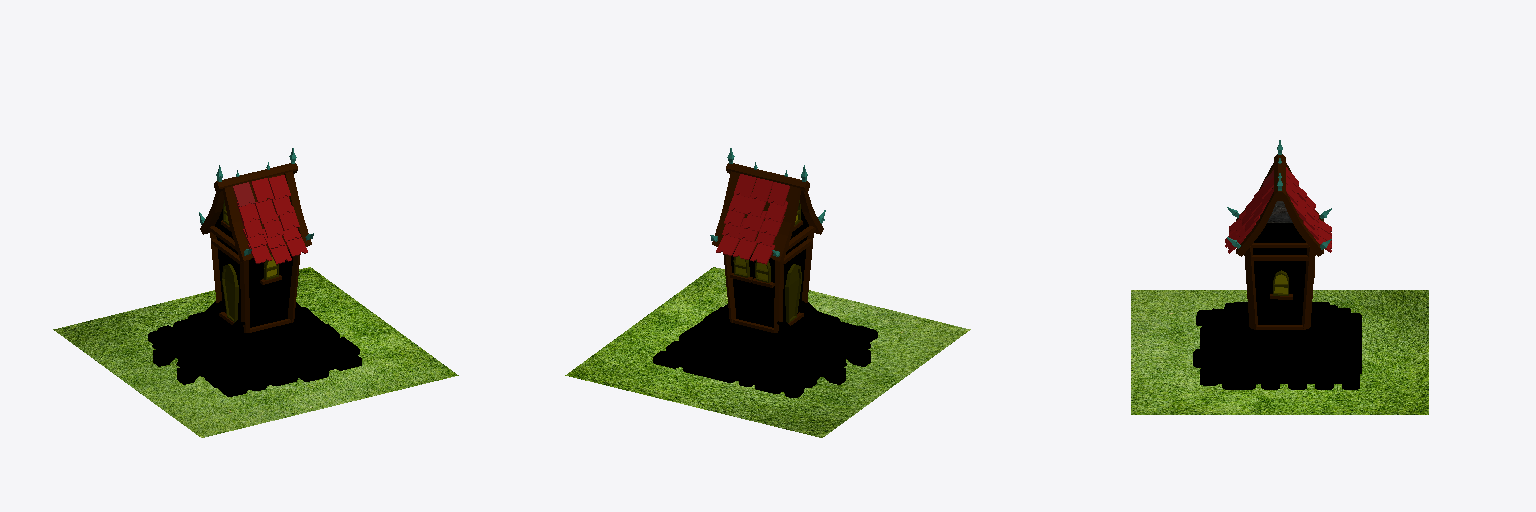
3 views of the same model, side by side, from view 1: azimuth 30°, elevation 25°; view 2: azimuth 150°, elevation 25°; view 3: azimuth 270°, elevation 25° (orthographic).
Visible parts, largest first — view 1: pPlane1, pCube1, pCube46, pCube169, pCube170, pCube45; view 2: pPlane1, pCube1, pCube46, pCube169, pCube170, pCube45; view 3: pPlane1, pCube1, pCube46, pCube121, pCube114, pCube120.
Part boxes in pixels (x1,y1,x2,y2): pPlane1: (53, 267, 458, 437); pCube1: (200, 163, 311, 332); pCube46: (164, 312, 336, 390); pCube169: (168, 301, 223, 362); pCube170: (192, 317, 251, 379); pCube45: (222, 264, 238, 322); pPlane1: (565, 267, 970, 437); pCube1: (712, 163, 823, 332); pCube46: (679, 311, 822, 392); pCube169: (772, 319, 831, 380); pCube170: (799, 301, 855, 363); pCube45: (785, 264, 801, 322); pPlane1: (1131, 290, 1428, 414); pCube1: (1236, 154, 1323, 329); pCube46: (1204, 302, 1352, 383); pCube121: (1285, 362, 1321, 378); pCube114: (1222, 373, 1255, 389); pCube120: (1268, 348, 1310, 362).
Size of the model in its own units: 10.48 by 7.74 by 10.48.
26 materials, 2 textured.